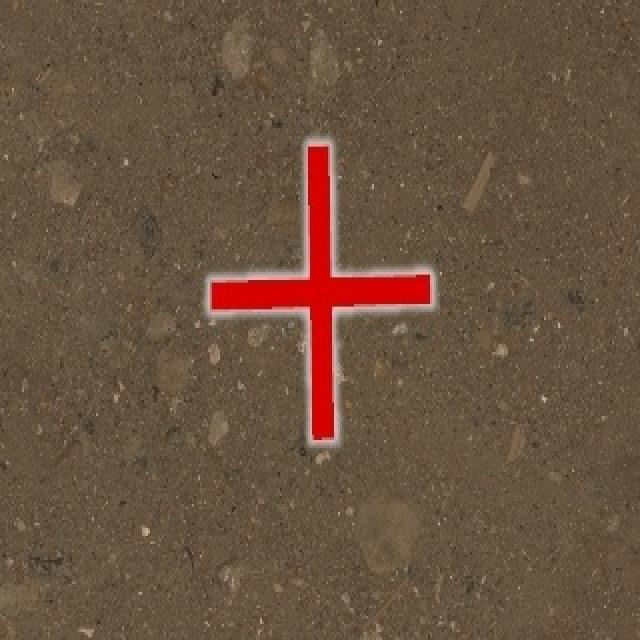x_marker: (209, 142, 431, 438)
